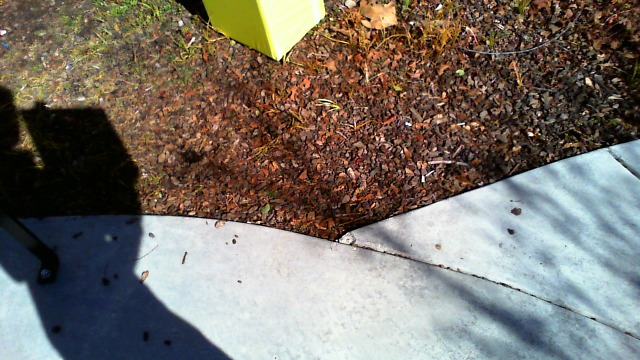cube: (197, 1, 326, 65)
